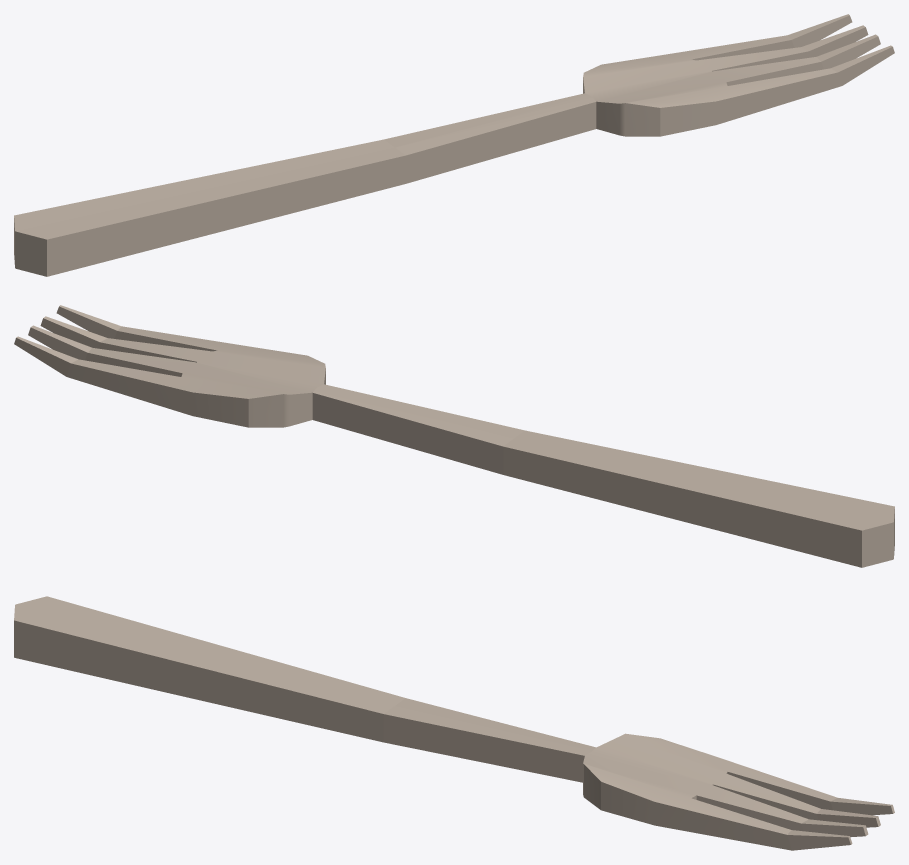
File: Fork.fbx
The picture shows the model from 3 angles, top to bottom: view 1: azimuth 30°, elevation 25°; view 2: azimuth 150°, elevation 25°; view 3: azimuth 330°, elevation 25°; orthographic projection.
Visible parts, largest first — view 1: pCube214; view 2: pCube214; view 3: pCube214.
Boxes of the visible parts, x1,y1,x2,y2 form: pCube214: (14, 14, 894, 276); pCube214: (14, 305, 894, 567); pCube214: (14, 596, 894, 850).
Size of the model in its own units: 8.08 by 0.3352 by 1.01.
